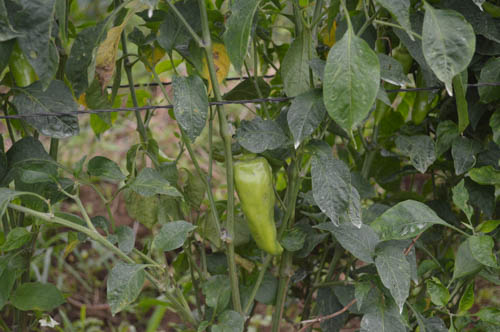ChiliPepper: (232, 159, 286, 256), (383, 49, 408, 130), (410, 72, 431, 129), (12, 48, 35, 91)
